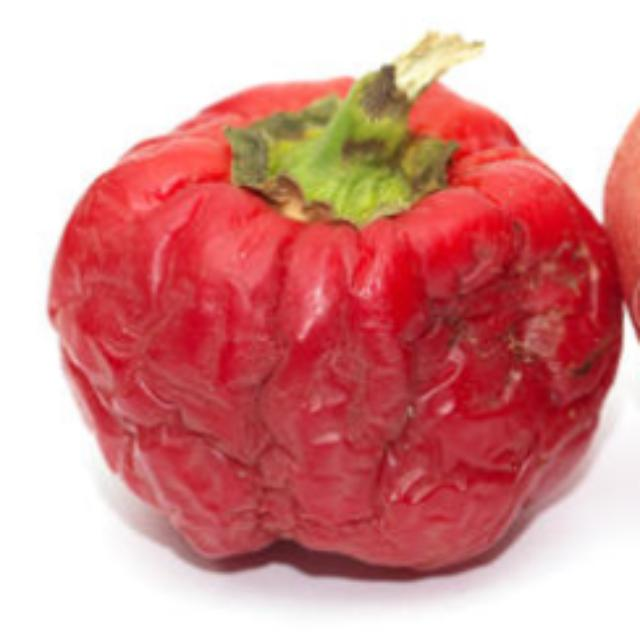defect: (46, 28, 629, 579)
